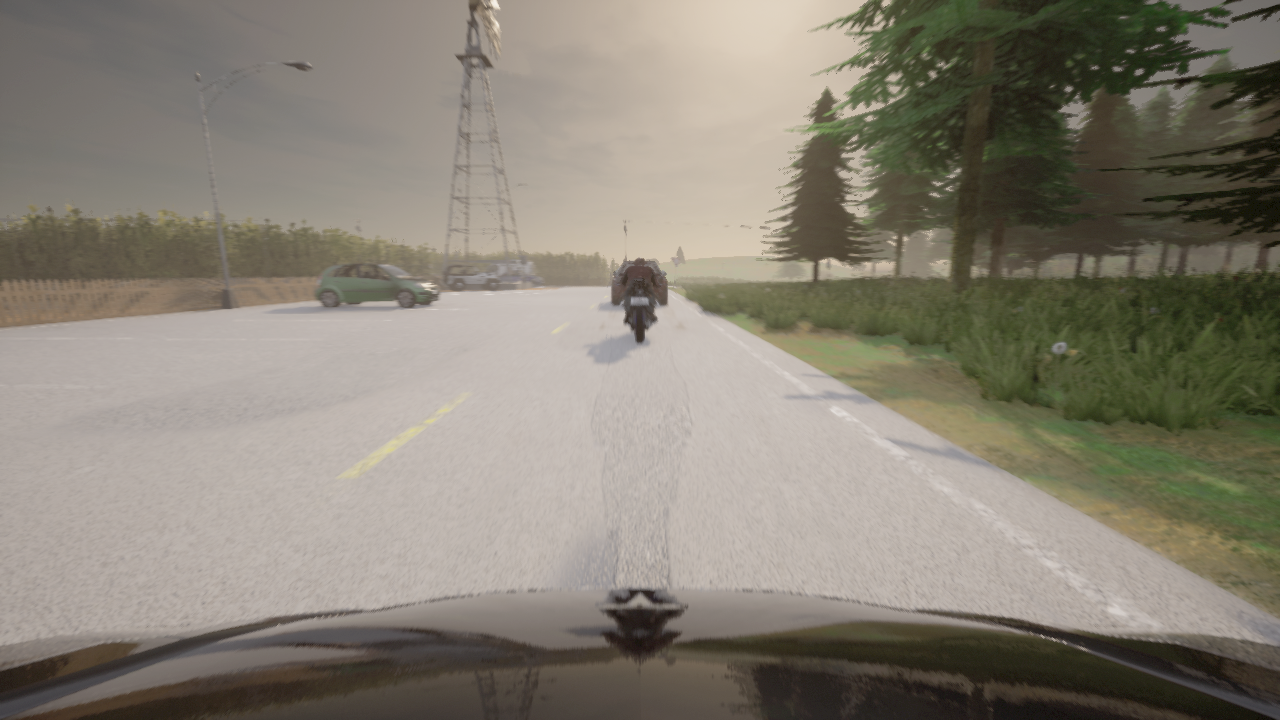cyclist: (0, 588, 1279, 719), (315, 263, 439, 307), (619, 274, 660, 342), (612, 261, 667, 304), (442, 264, 501, 290), (485, 265, 534, 280)
